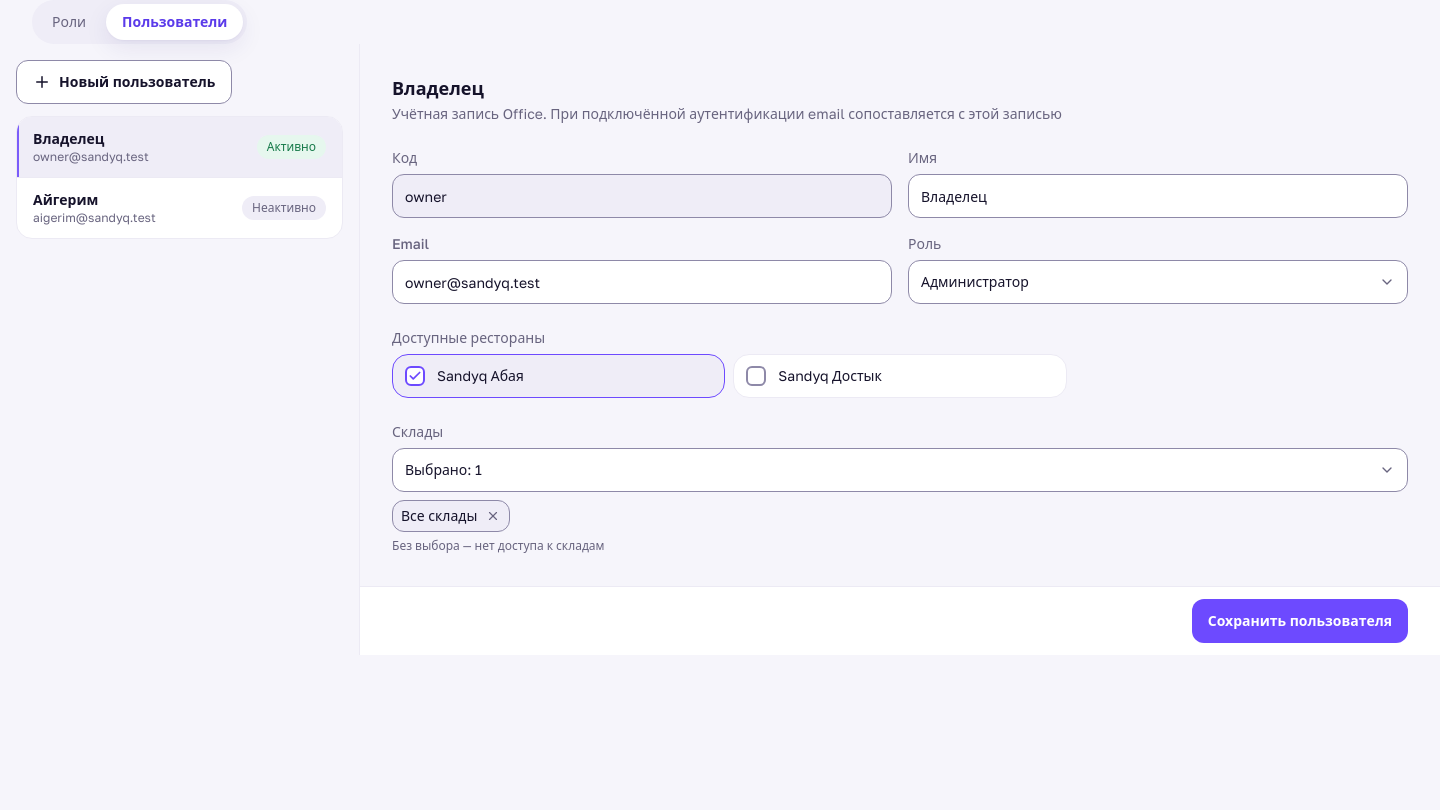
«Пользователи» (W1-ACL-06) › shows a server error in a Banner
What coordinates should you click on to do the following:
click the button "Сохранить пользователя"
I would click on:
 (1300, 621)
Its box is [1192, 599, 1408, 643].
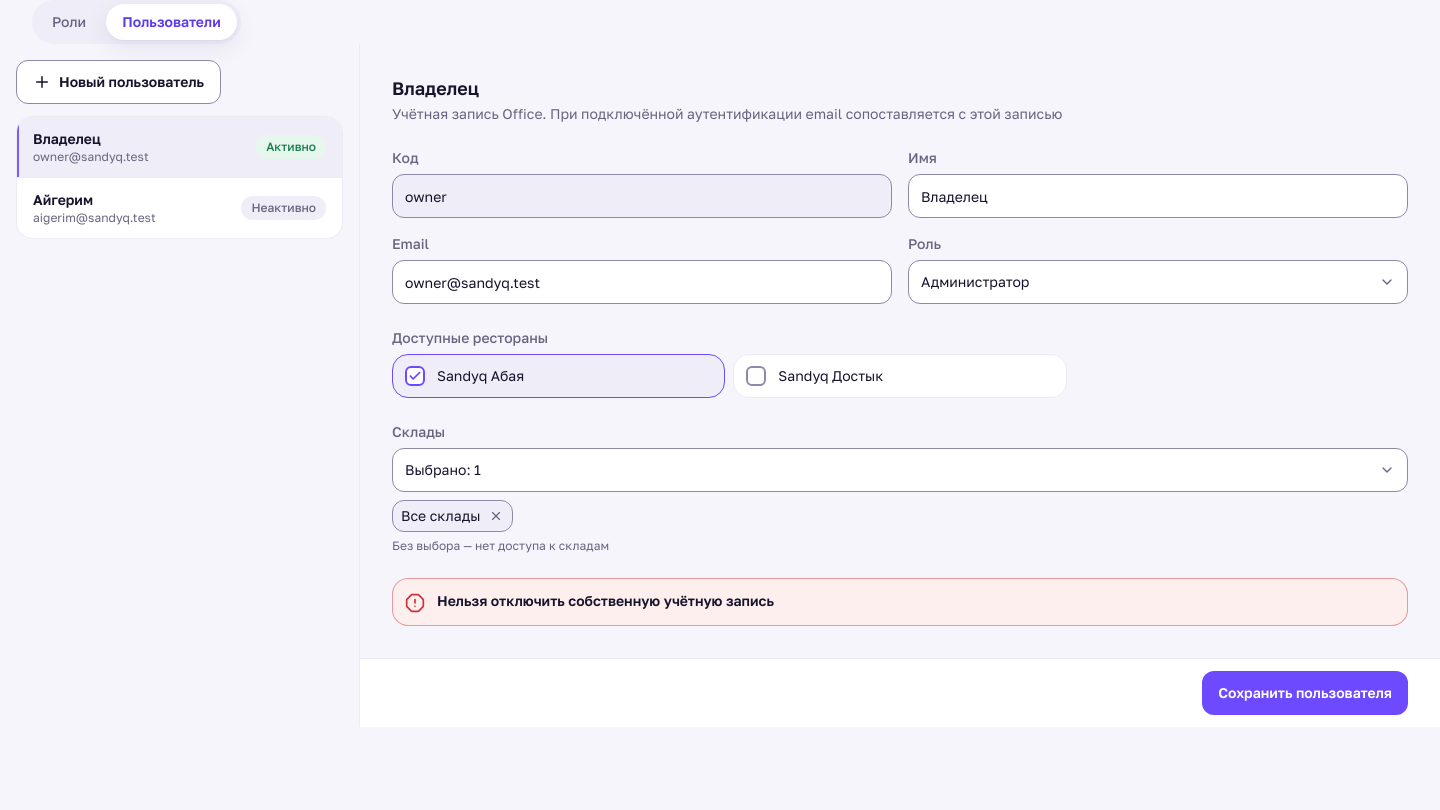
Result: the message reads "Нельзя отключить собственную учётную запись" at [437, 592, 774, 609]
